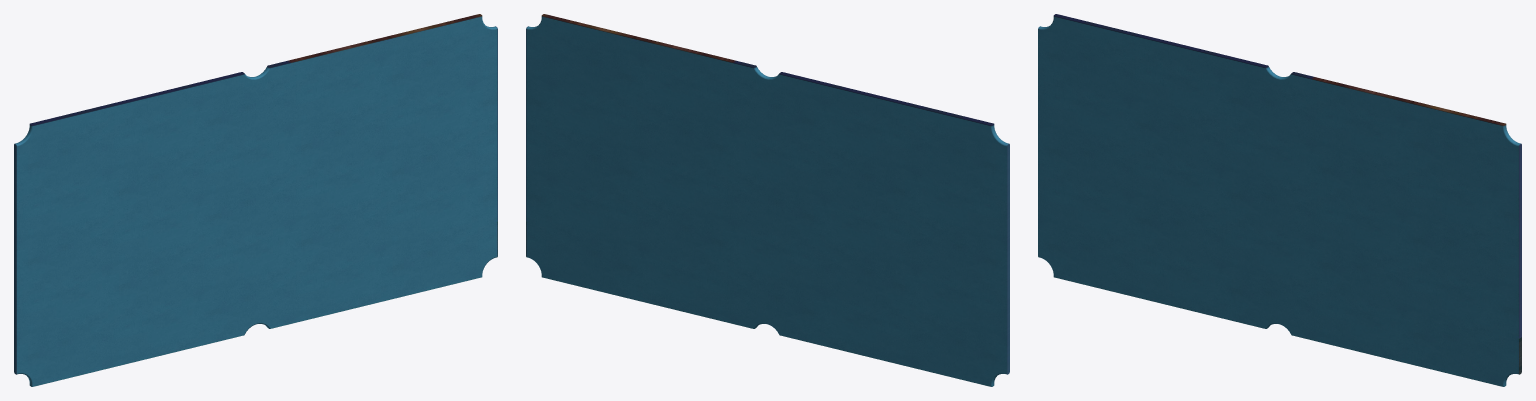
The model's file is slate.obj.
The picture shows the model from 3 angles, left to right: view 1: azimuth 30°, elevation 25°; view 2: azimuth 150°, elevation 25°; view 3: azimuth 330°, elevation 25°; orthographic projection.
Bounding box in the file's own units: 2.64 × 1.37 × 0.0254.
Materials: 1 (1 with a texture image).
